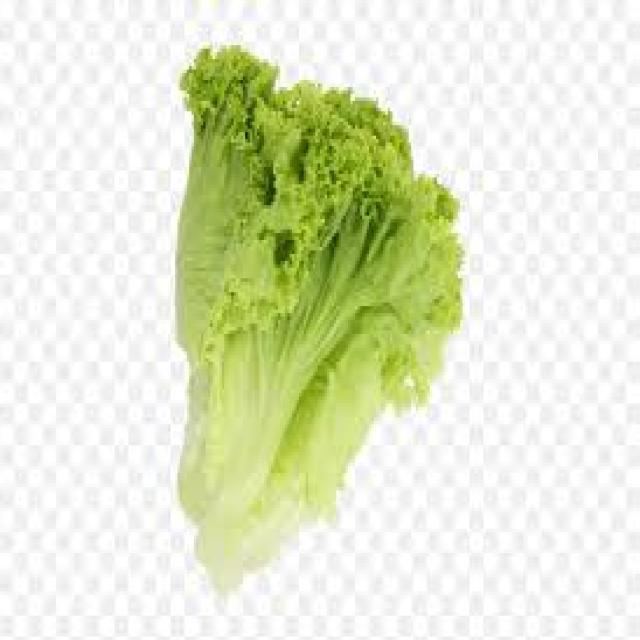Lettuce-Ready-to-Harvest: (176, 46, 461, 589)
